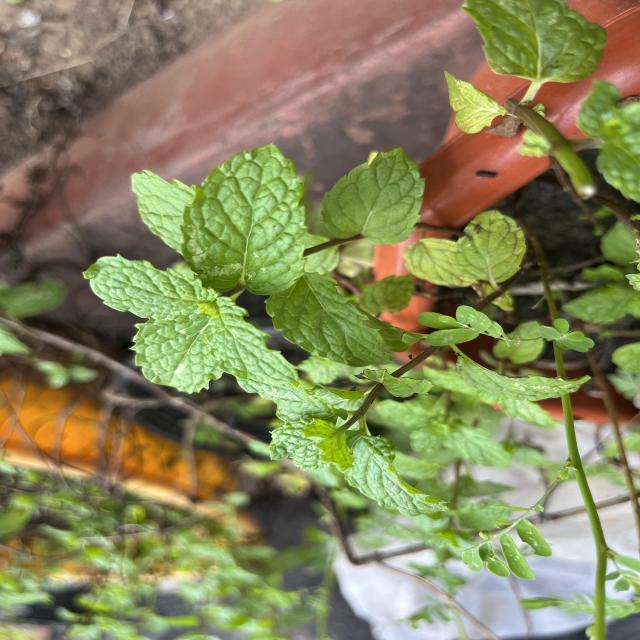Mentha spicata: (178, 141, 310, 297), (264, 270, 396, 368), (320, 144, 426, 246), (82, 252, 218, 320), (128, 318, 225, 394)
